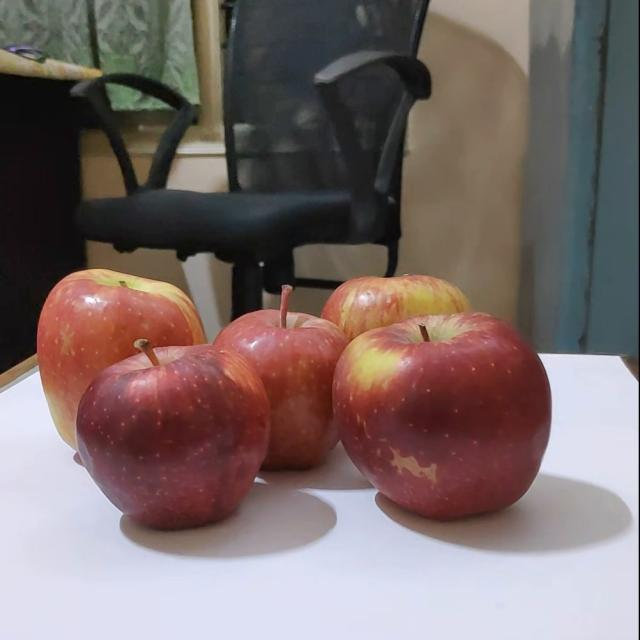apple: (291, 309, 520, 521), (36, 340, 231, 524), (188, 282, 339, 469), (20, 266, 190, 420), (301, 269, 473, 394)
